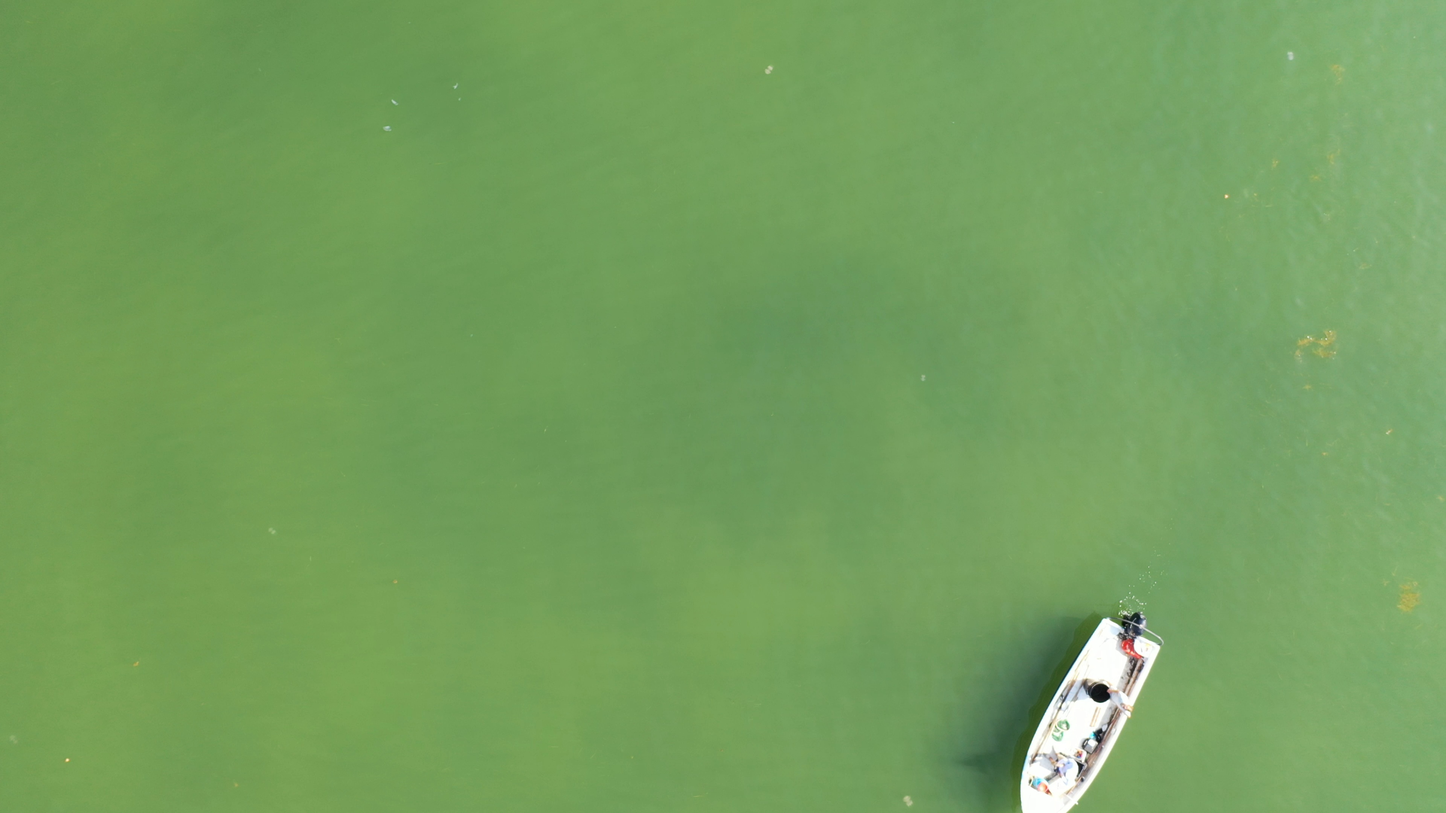meduse: (1287, 50, 1295, 61), (765, 65, 773, 75), (268, 527, 276, 536), (11, 737, 19, 745), (921, 375, 928, 382)
